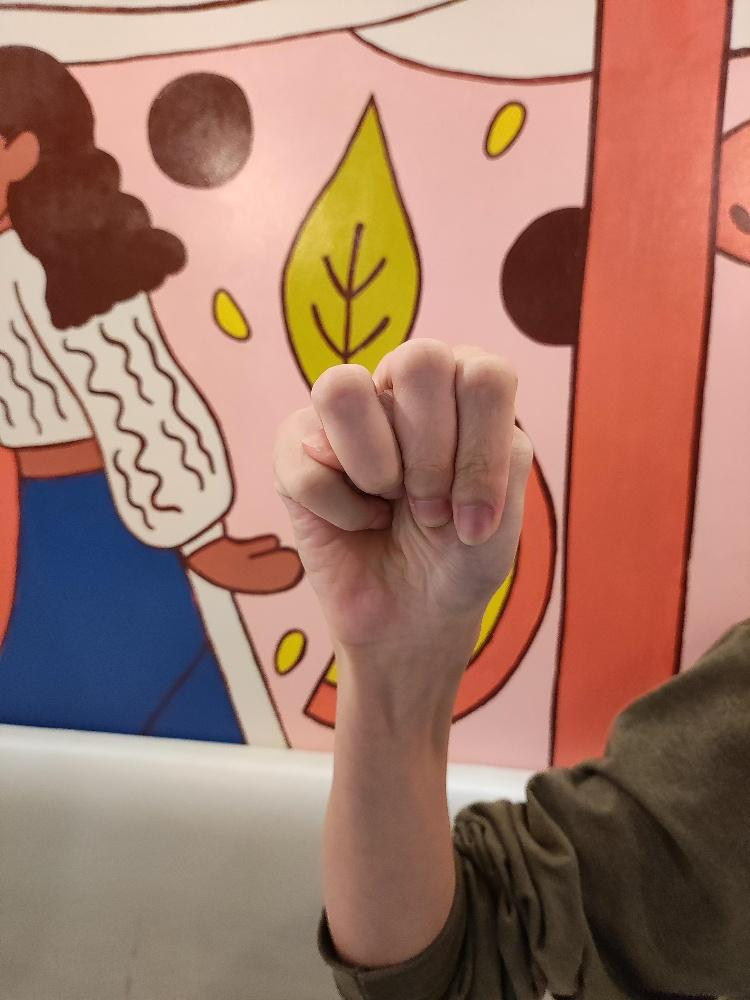m: (267, 333, 538, 645)
